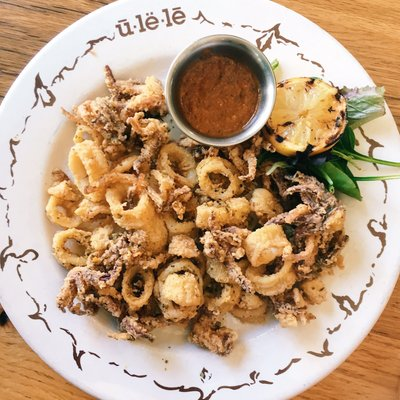sushi: (5, 4, 400, 399), (164, 35, 277, 149)
